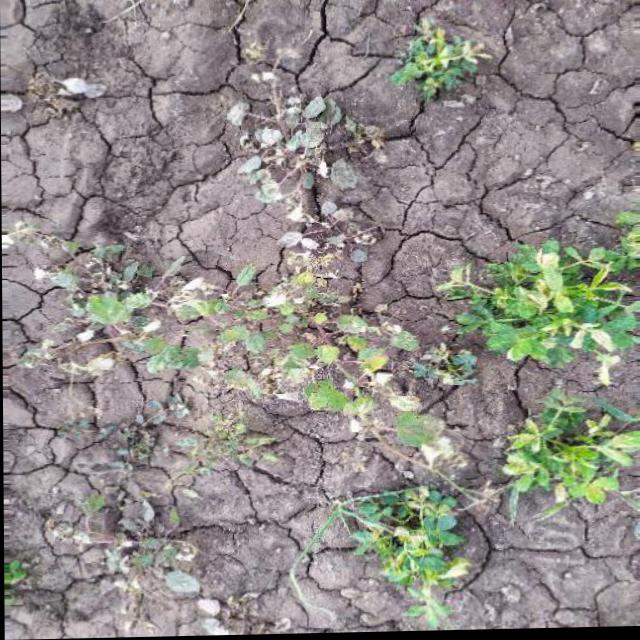weed: (49, 234, 632, 616), (210, 40, 485, 224)
